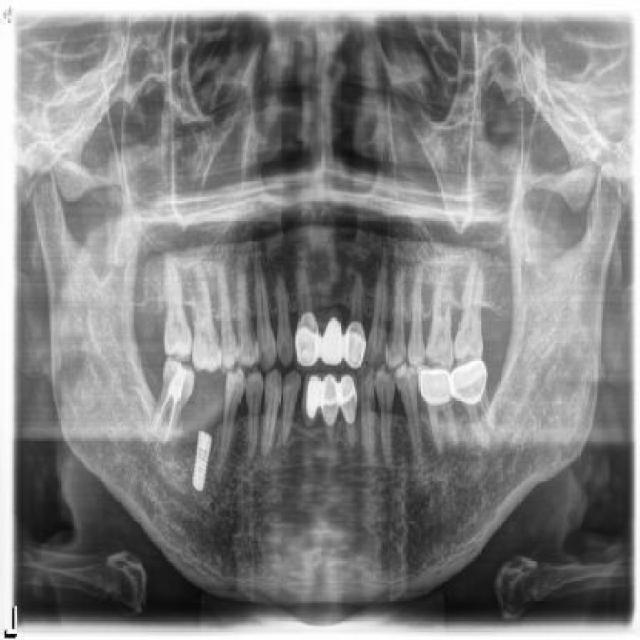dolgu: (161, 359, 201, 408)
implant: (190, 426, 213, 494)
kanal-tedavisi: (151, 390, 183, 439)
kaplama: (453, 358, 488, 407), (294, 311, 321, 369), (417, 364, 452, 406), (320, 311, 345, 369), (344, 317, 367, 368), (339, 372, 359, 429), (303, 370, 321, 426), (322, 374, 340, 430)
